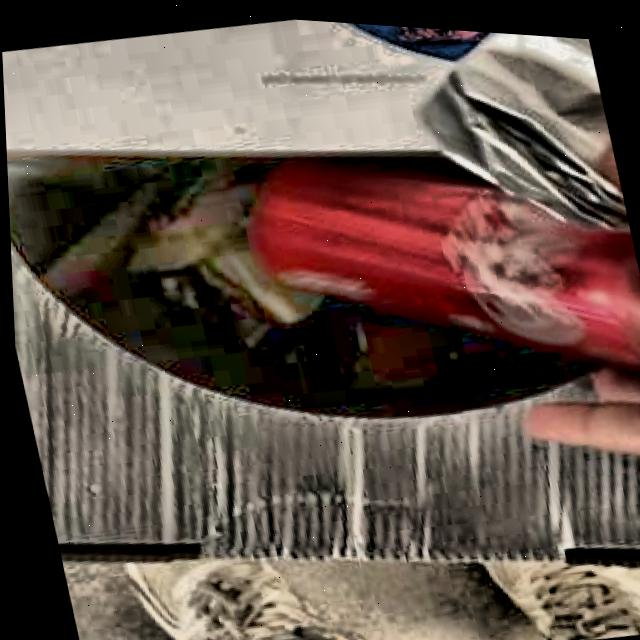metal: (244, 156, 640, 356)
plastic: (419, 26, 628, 219)
